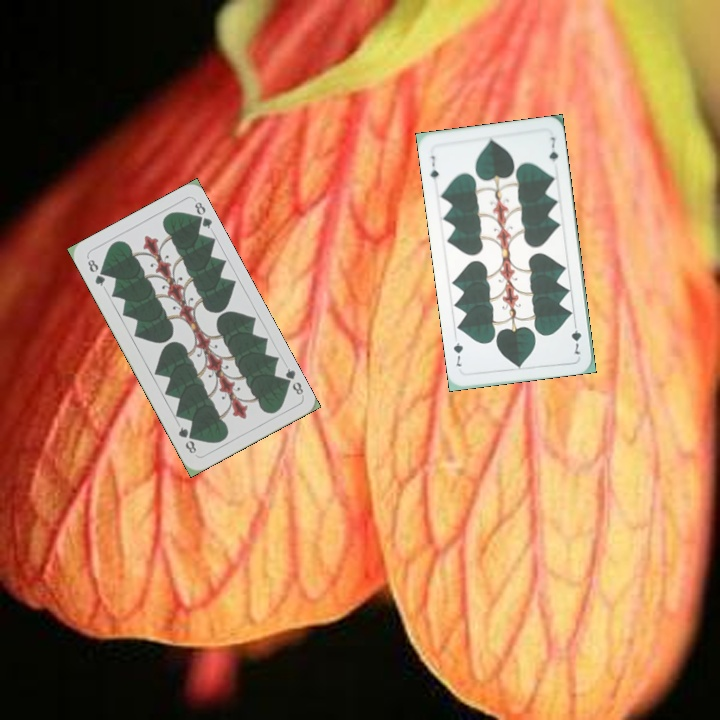G7: (567, 317, 584, 357), (426, 151, 441, 182)
G8: (278, 364, 306, 398), (83, 255, 108, 289)
